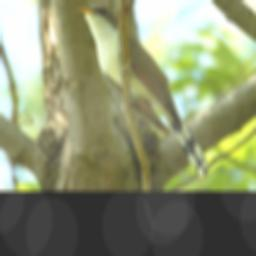Cuckoo: (74, 2, 208, 175)
